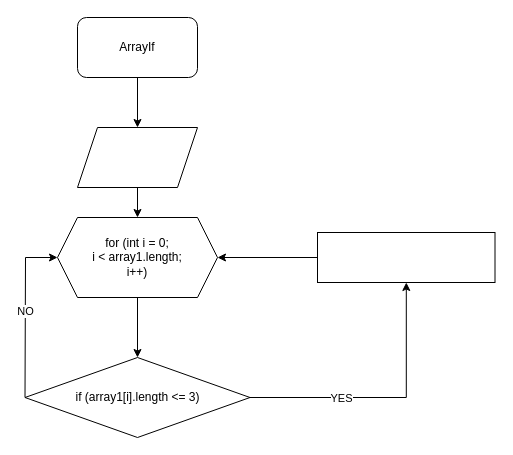
Image size: 513x455. Some labels were removed from this diagram. Here are the shapes that lost their labels. From the top down, the box of each, then its label:
(76, 126, 198, 188): string[] array1 string array2 int count = 0
(316, 232, 495, 282): array2[count] = array1[i] count++;
